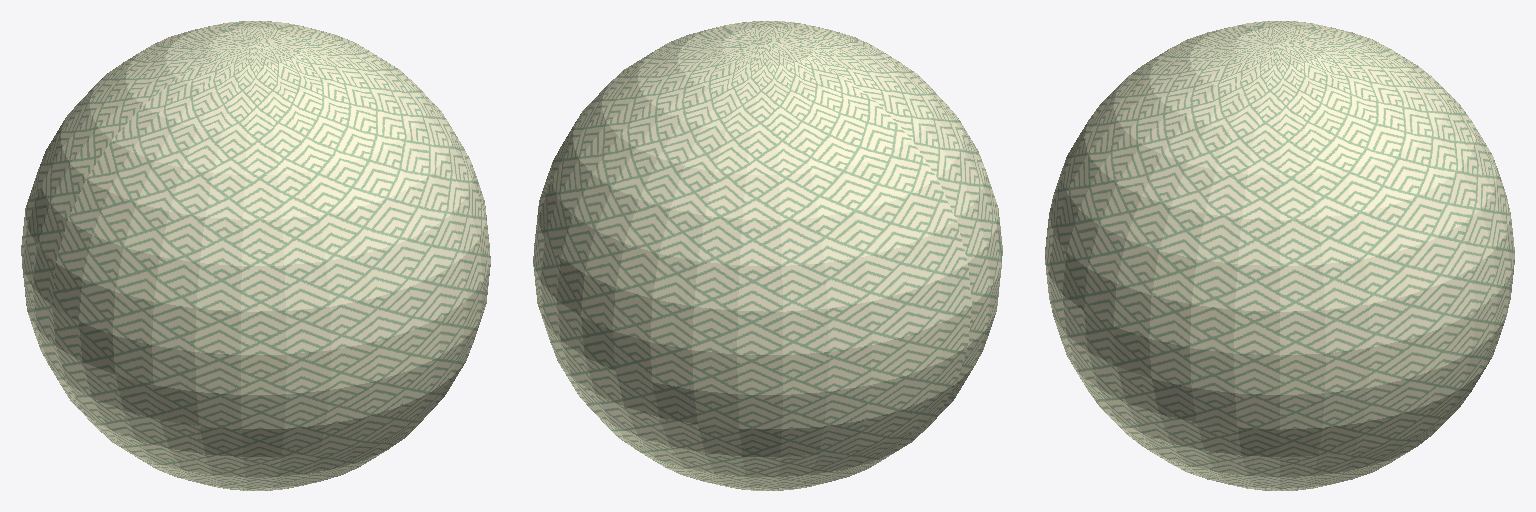
3 renders of one model, left to right at view 1: azimuth 30°, elevation 25°; view 2: azimuth 150°, elevation 25°; view 3: azimuth 270°, elevation 25°, orthographic.
Parts seen in each view (by area): view 1: 球; view 2: 球; view 3: 球.
Boxes of the visible parts, x1,y1,x2,y2 form: 球: [21, 21, 490, 490]; 球: [533, 21, 1002, 490]; 球: [1045, 21, 1514, 490].
Size of the model in its own units: 800 by 800 by 800.
1 materials, 1 textured.